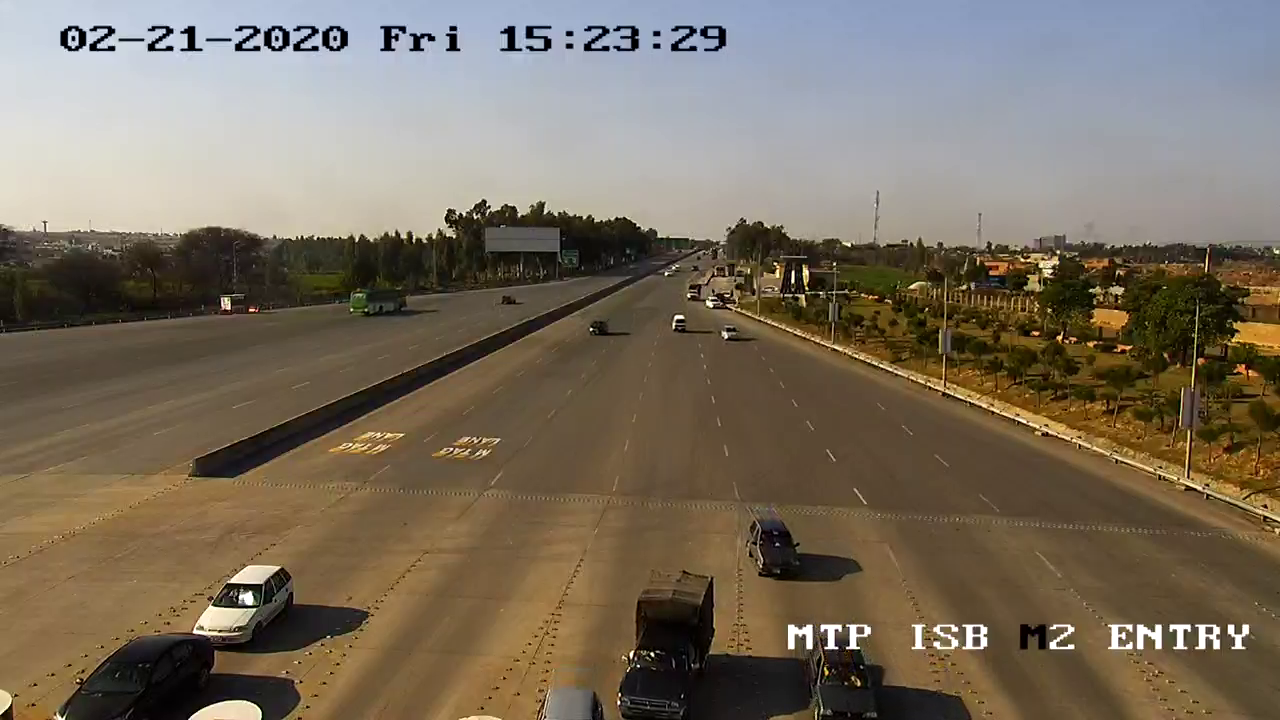f1: (611, 561, 722, 720), (181, 548, 305, 652), (743, 511, 808, 590)
